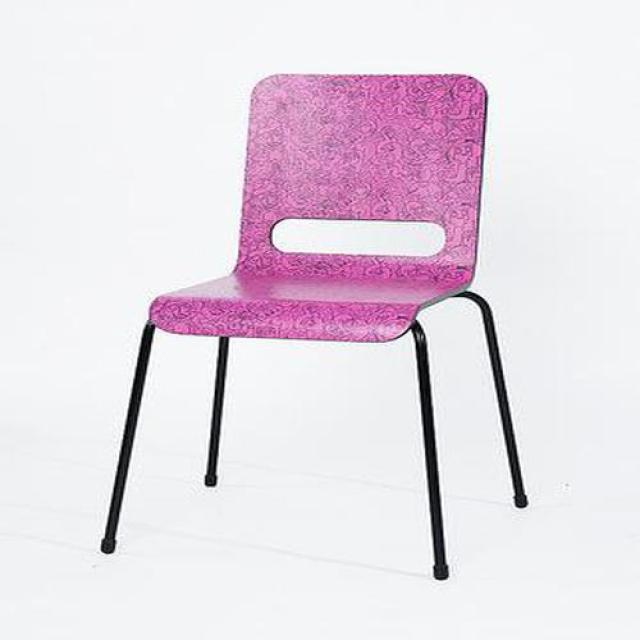chair: (100, 74, 527, 582)
